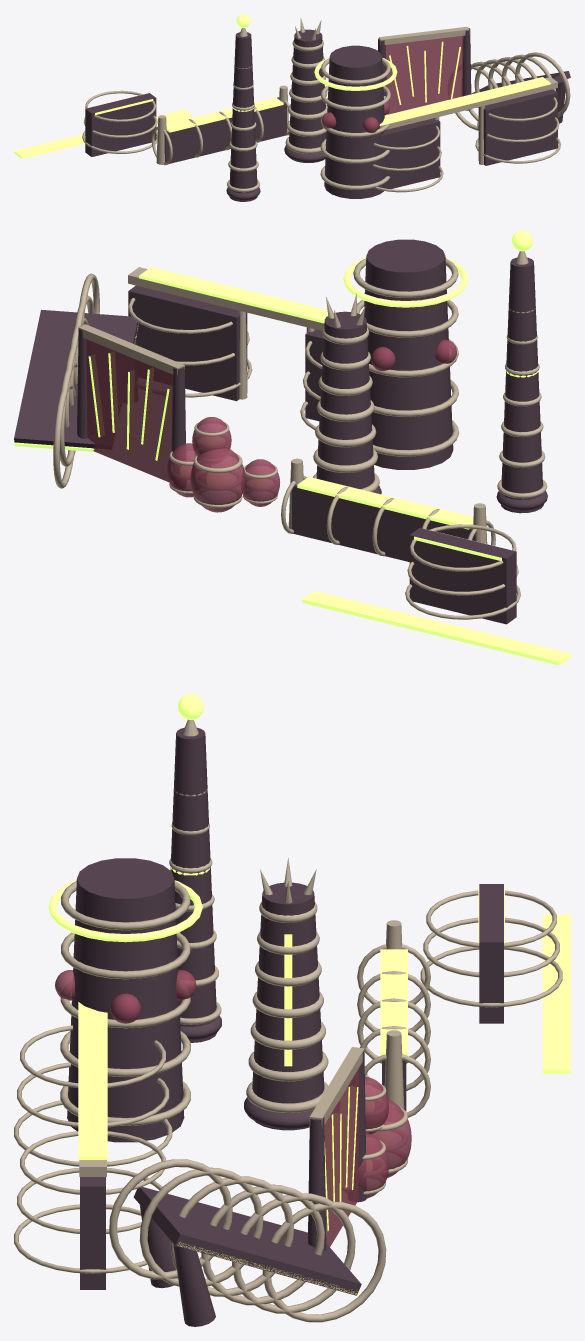
File: grafted-brood-obstacles.glb
The picture shows the model from 3 angles, top to bottom: view 1: azimuth 30°, elevation 25°; view 2: azimuth 150°, elevation 25°; view 3: azimuth 270°, elevation 25°; orthographic projection. The views are drawn at different scales.
Visible parts, largest first — view 1: trunk_shell, membrane_pane, panel_shell_r, spire_trunk, panel_shell_l, segment_shell, pillar_trunk, fence_pane, bridge_seam, bridge_bar, trim_band, fence_seam (+28 smaller); view 2: trunk_shell, membrane_pane, panel_shell_r, spire_trunk, segment_shell, ramp_deck, pillar_trunk, fence_pane, trim_band, bridge_seam, eggsac_1, fence_seam (+24 smaller); view 3: trunk_shell, pillar_trunk, ramp_deck, spire_trunk, bridge_seam, trim_band, membrane_pane, segment_shell, panel_shell_r, ramp_rib_1, fence_seam, ramp_rib_6 (+36 smaller).
Boxes of the visible parts, x1,y1,x2,y2 form: trunk_shell: (324,45,384,198); membrane_pane: (385,35,463,114); panel_shell_r: (478,89,557,165); spire_trunk: (229,32,257,201); panel_shell_l: (381,118,440,188); segment_shell: (85,93,156,156); pillar_trunk: (289,29,326,162); fence_pane: (164,99,286,163); bridge_seam: (379,77,550,125); bridge_bar: (380,77,557,129); trim_band: (14,109,192,158); fence_seam: (166,97,283,132); trunk_shell: (364,239,453,469); membrane_pane: (86,339,172,482); panel_shell_r: (128,285,247,401); spire_trunk: (501,257,543,513); segment_shell: (409,528,516,624); ramp_deck: (14,309,138,448); pillar_trunk: (316,311,374,488); fence_pane: (292,479,476,561); trim_band: (302,591,570,665); bridge_seam: (139,267,336,323); eggsac_1: (190,448,245,512); fence_seam: (297,476,473,529); trunk_shell: (67,858,184,1142); pillar_trunk: (252,882,324,1130); ramp_deck: (133,1187,361,1295); spire_trunk: (170,727,216,1042); bridge_seam: (78,1002,107,1159); trim_band: (542,914,570,1073); membrane_pane: (324,1068,359,1246); segment_shell: (479,884,503,1023); panel_shell_r: (80,1177,105,1289); ramp_rib_1: (262,1201,386,1322); fence_seam: (380,949,407,1055); ramp_rib_6: (109,1159,232,1279).
Size of the model in its own units: 11.87 by 5.21 by 6.85.
